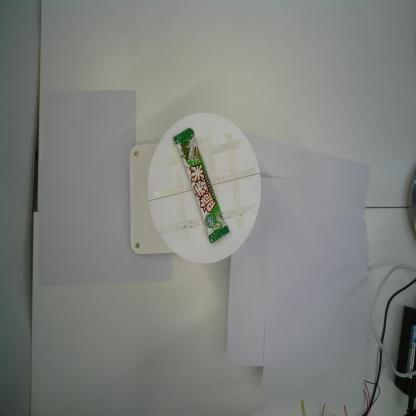Chocolate: (172, 126, 231, 245)
